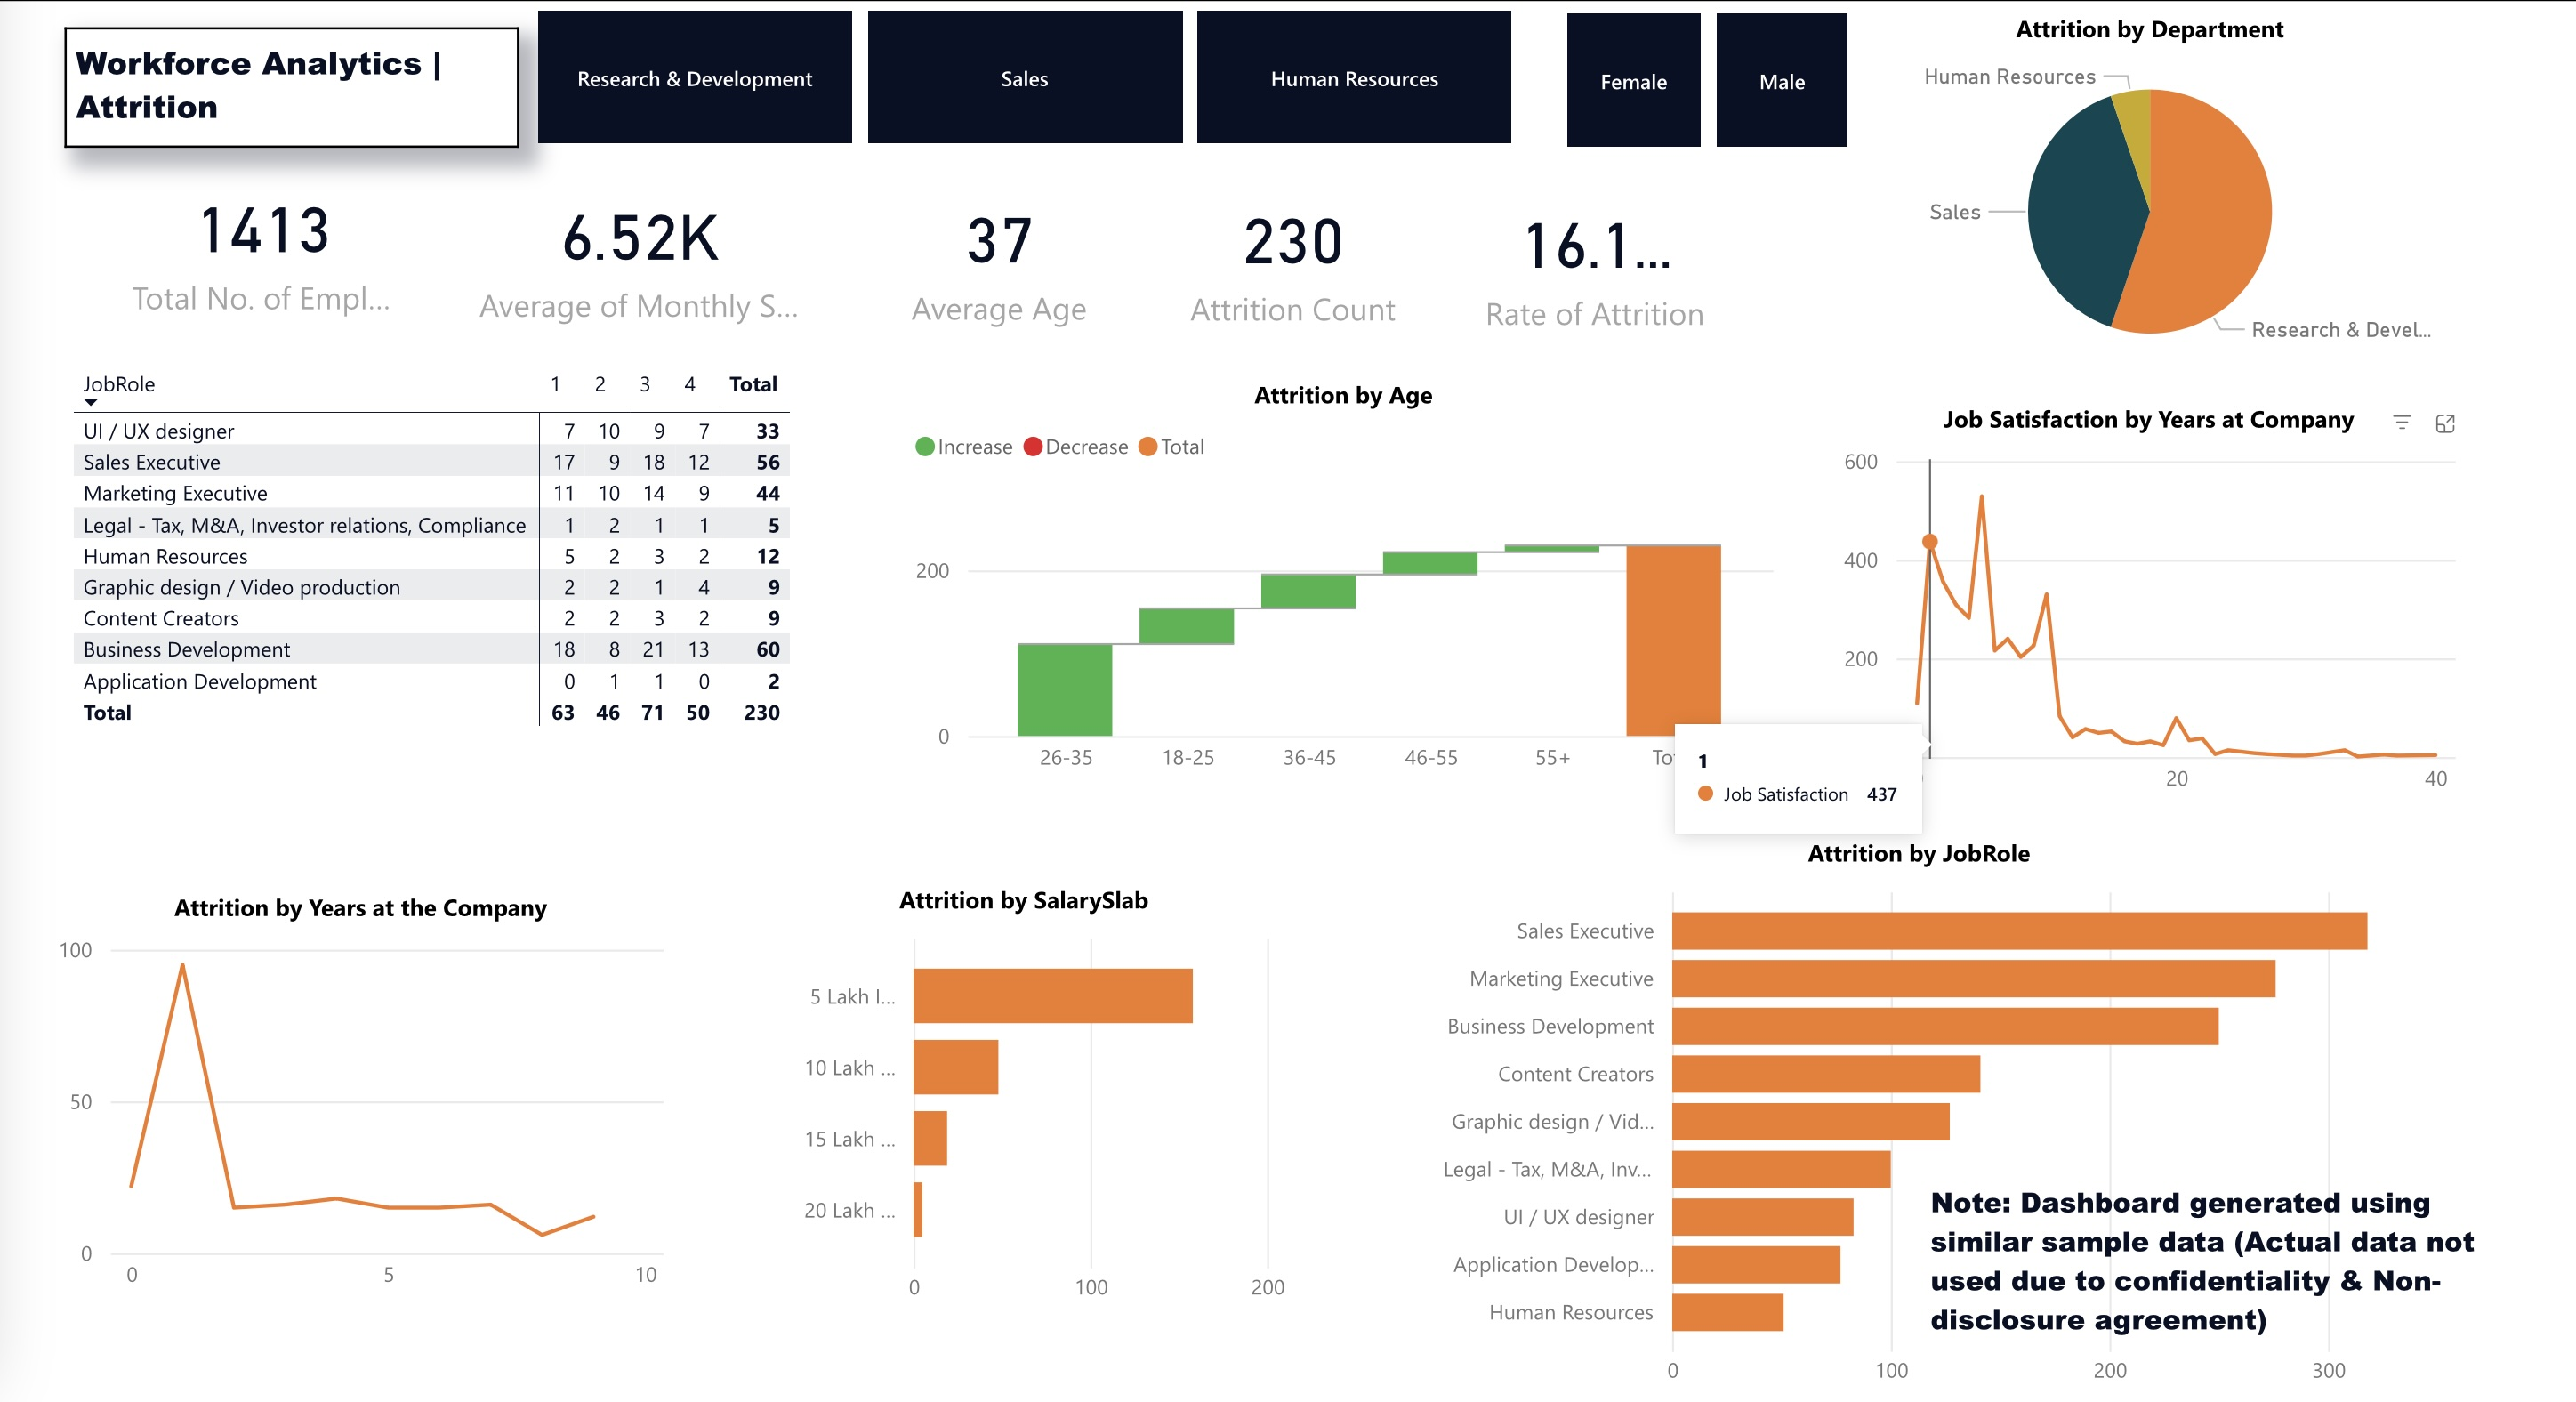

The page's visual inventory and layout, read from the dashboard file:
{"tool":"powerbi","page":{"name":"Attriti8on Data","canvas":[1280,720],"ordinal":1},"visuals":[{"type":"card","fields":{"Values":["Count(HR_Analytics (2).EmpID)"]},"box":[26.2,84.5,174.9,83.3],"z":0},{"type":"card","fields":{"Values":["Avg(HR_Analytics (2).MonthlyIncome)"]},"box":[203.4,80.9,205.8,98.7],"z":1000},{"type":"card","fields":{"Values":["Avg(HR_Analytics (2).Age)"]},"box":[431.8,84.5,119,94],"z":2000},{"type":"card","fields":{"Values":["Sum(HR_Analytics (2).Attrition_Column)"]},"box":[567.4,76.1,148.7,111.8],"z":3000},{"type":"card","fields":{"Values":["HR_Analytics (2).Rate of Attrition"]},"box":[724.5,80.9,143.9,107.1],"z":4000},{"type":"waterfallChart","fields":{"Category":["HR_Analytics (2).AgeGroup"],"Y":["Sum(HR_Analytics (2).Attrition Count)"]},"box":[442.5,193.9,449.7,212.9],"z":5000},{"type":"pieChart","fields":{"Category":["HR_Analytics (2).Department"],"Y":["Sum(HR_Analytics (2).Attrition Count)"]},"box":[910,5.9,340.2,188],"z":6000},{"type":"advancedSlicerVisual","fields":{"Values":["HR_Analytics (2).Department"]},"box":[249.8,0,509.1,79.7],"z":7000},{"type":"pivotTable","fields":{"Rows":["HR_Analytics (2).JobRole"],"Columns":["HR_Analytics (2).JobSatisfaction"],"Values":["Sum(HR_Analytics (2).Attrition Count)"]},"box":[11.9,183.2,381.9,223.6],"z":8000},{"type":"clusteredBarChart","fields":{"Category":["HR_Analytics (2).SalarySlab"],"Y":["Sum(HR_Analytics (2).Attrition Count)"]},"box":[365.2,452,277.2,224.8],"z":9000},{"type":"lineChart","fields":{"Category":["HR_Analytics (2).NumCompaniesWorked"],"Y":["Sum(HR_Analytics (2).Attrition Count)"]},"box":[3.3,456.7,321.1,214.4],"z":10000},{"type":"textbox","box":[11.9,14.3,233.2,61.9],"z":11000},{"type":"advancedSlicerVisual","fields":{"Values":["HR_Analytics (2).Gender"]},"box":[776.8,1.2,230.8,79.7],"z":12000},{"type":"clusteredBarChart","fields":{"Category":["HR_Analytics (2).JobRole"],"Y":["CountNonNull(HR_Analytics (2).Attrition)"]},"box":[682.8,428.3,559.1,291.4],"z":13000},{"type":"lineChart","fields":{"Category":["HR_Analytics (2).YearsAtCompany"],"Y":["Sum(HR_Analytics (2).JobSatisfaction)"]},"box":[918.4,205.8,323.6,210.6],"z":14000},{"type":"textbox","box":[100,100,300,300],"z":15000},{"type":"textbox","box":[962.9,600,317.1,95.7],"z":16000}]}

Visuals, with their boxes on the page's 1280x720 design canvas (x1, y1, x2, y2). These are canvas units, not pixel positions in the 2576x1402 screenshot, which may show the page scaled, cropped or inside an application window:
card - Count(HR_Analytics (2).EmpID): x1=26 y1=84 x2=201 y2=168
card - Avg(HR_Analytics (2).MonthlyIncome): x1=203 y1=81 x2=409 y2=180
card - Avg(HR_Analytics (2).Age): x1=432 y1=84 x2=551 y2=178
card - Sum(HR_Analytics (2).Attrition_Column): x1=567 y1=76 x2=716 y2=188
card - HR_Analytics (2).Rate of Attrition: x1=724 y1=81 x2=868 y2=188
waterfallChart - HR_Analytics (2).AgeGroup x Sum(HR_Analytics (2).Attrition Count): x1=442 y1=194 x2=892 y2=407
pieChart - HR_Analytics (2).Department x Sum(HR_Analytics (2).Attrition Count): x1=910 y1=6 x2=1250 y2=194
advancedSlicerVisual - HR_Analytics (2).Department: x1=250 y1=0 x2=759 y2=80
pivotTable - HR_Analytics (2).JobRole x HR_Analytics (2).JobSatisfaction: x1=12 y1=183 x2=394 y2=407
clusteredBarChart - HR_Analytics (2).SalarySlab x Sum(HR_Analytics (2).Attrition Count): x1=365 y1=452 x2=642 y2=677
lineChart - HR_Analytics (2).NumCompaniesWorked x Sum(HR_Analytics (2).Attrition Count): x1=3 y1=457 x2=324 y2=671
textbox: x1=12 y1=14 x2=245 y2=76
advancedSlicerVisual - HR_Analytics (2).Gender: x1=777 y1=1 x2=1008 y2=81
clusteredBarChart - HR_Analytics (2).JobRole x CountNonNull(HR_Analytics (2).Attrition): x1=683 y1=428 x2=1242 y2=720
lineChart - HR_Analytics (2).YearsAtCompany x Sum(HR_Analytics (2).JobSatisfaction): x1=918 y1=206 x2=1242 y2=416
textbox: x1=100 y1=100 x2=400 y2=400
textbox: x1=963 y1=600 x2=1280 y2=696
